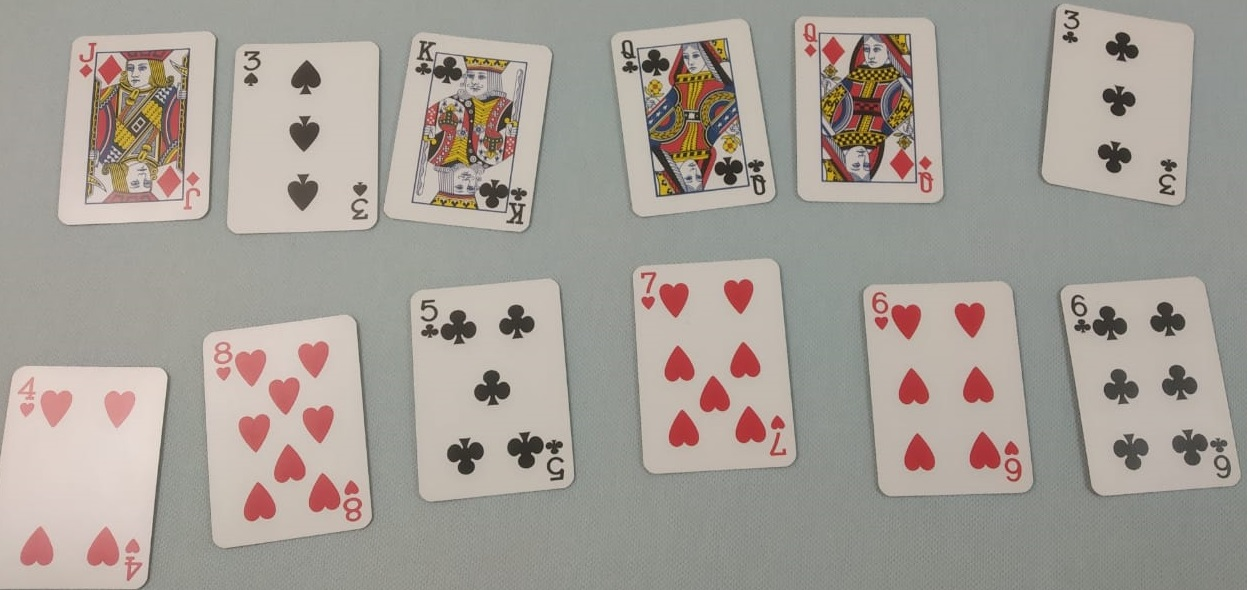eight: (195, 308, 383, 554)
five: (401, 274, 585, 529)
four: (1, 354, 177, 587)
jack: (48, 13, 211, 265)
king: (383, 21, 555, 260)
queen: (787, 5, 980, 243), (599, 5, 789, 232)
seven: (619, 244, 810, 484)
six: (857, 264, 1048, 513), (1050, 274, 1248, 503)
three: (1038, 1, 1210, 242), (221, 18, 385, 269)
